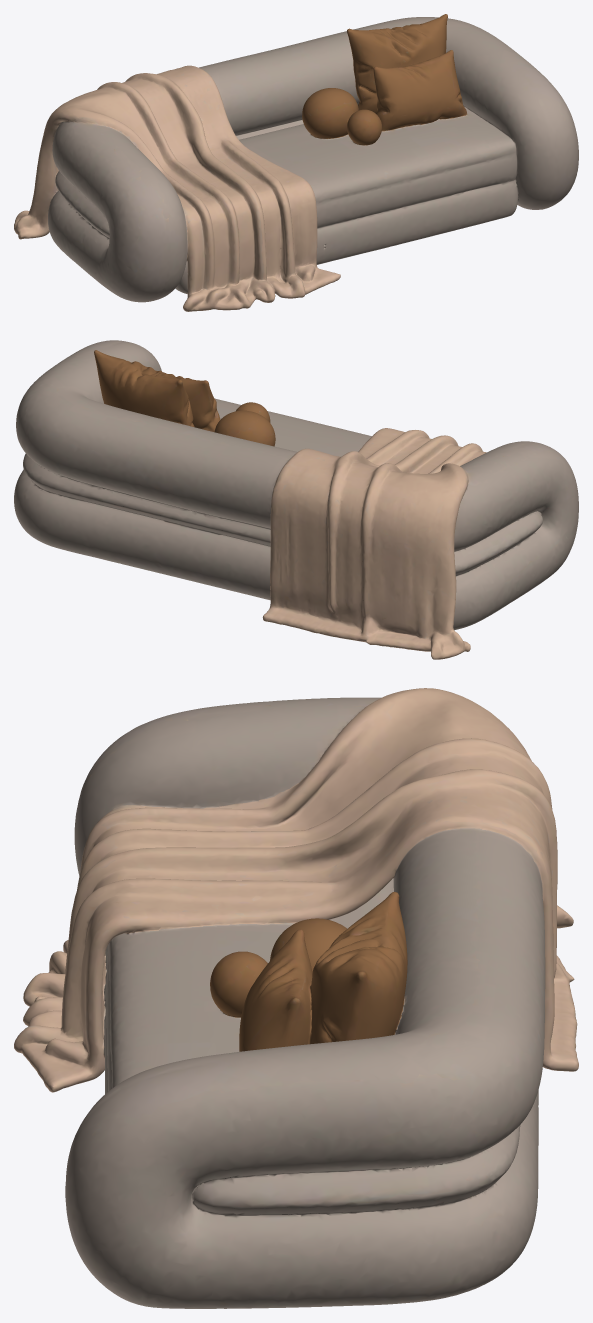
File: Modern Tubular Sofa [H2yMAx].glb
3 renders of one model, top to bottom at view 1: azimuth 30°, elevation 25°; view 2: azimuth 150°, elevation 25°; view 3: azimuth 270°, elevation 25°, orthographic. The views are drawn at different scales.
Visible parts, largest first — view 1: world; view 2: world; view 3: world.
Boxes of the visible parts, x1,y1,x2,y2 form: world: (14,14,578,311); world: (14,340,578,659); world: (14,688,578,1308).
Size of the model in its own units: 1 by 0.3351 by 0.5781.
1 material, 1 textured.
